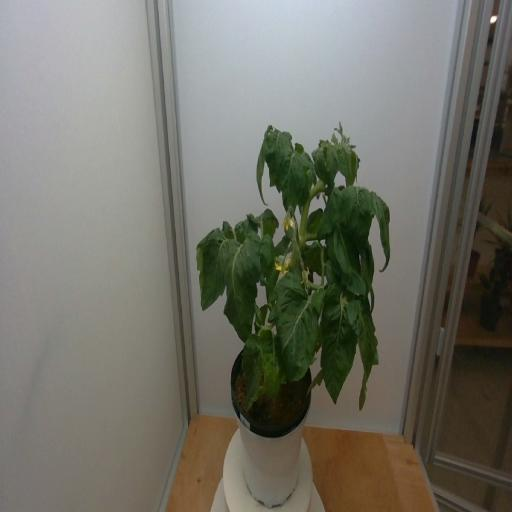Tomato-Leaves-Cupboard-: (270, 285, 320, 387), (218, 232, 260, 339), (347, 299, 382, 408), (199, 229, 237, 312), (277, 149, 307, 219), (238, 340, 264, 414), (257, 328, 284, 396), (254, 124, 275, 209), (344, 184, 373, 242), (326, 260, 368, 300), (318, 183, 346, 241), (375, 193, 393, 275), (266, 127, 292, 181), (326, 223, 350, 281), (295, 238, 327, 276), (358, 234, 376, 298), (301, 201, 326, 243), (258, 229, 274, 285), (315, 145, 331, 188), (239, 205, 259, 237), (344, 147, 358, 191), (256, 210, 278, 236), (311, 288, 325, 317), (334, 146, 347, 176), (222, 218, 233, 235)
